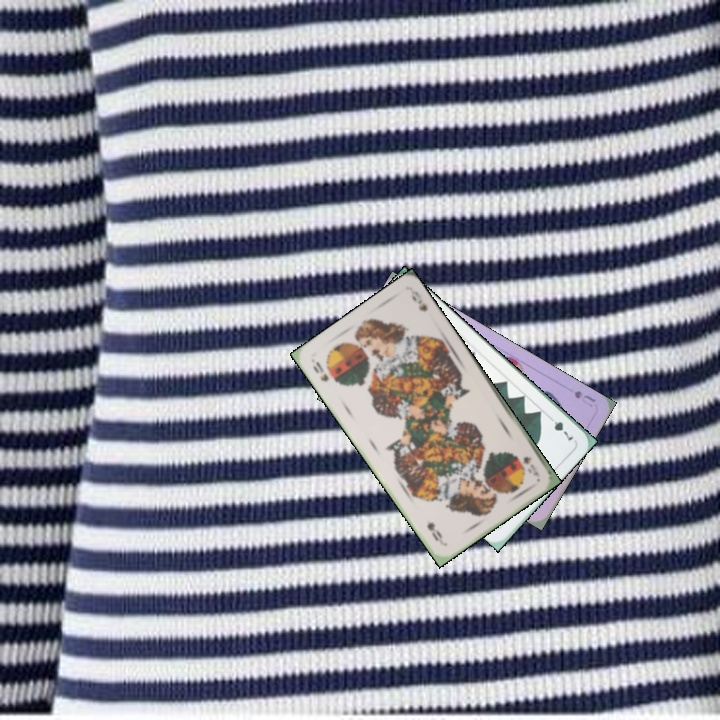G7: (544, 411, 576, 443)
SO: (308, 356, 331, 384), (518, 452, 542, 478)
SU: (570, 386, 598, 410)
